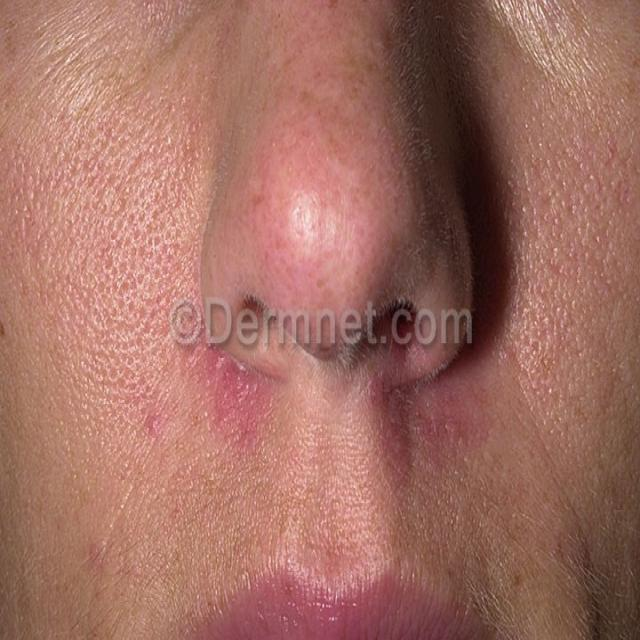Acne: (252, 57, 428, 272), (147, 287, 299, 514), (378, 344, 512, 520)
